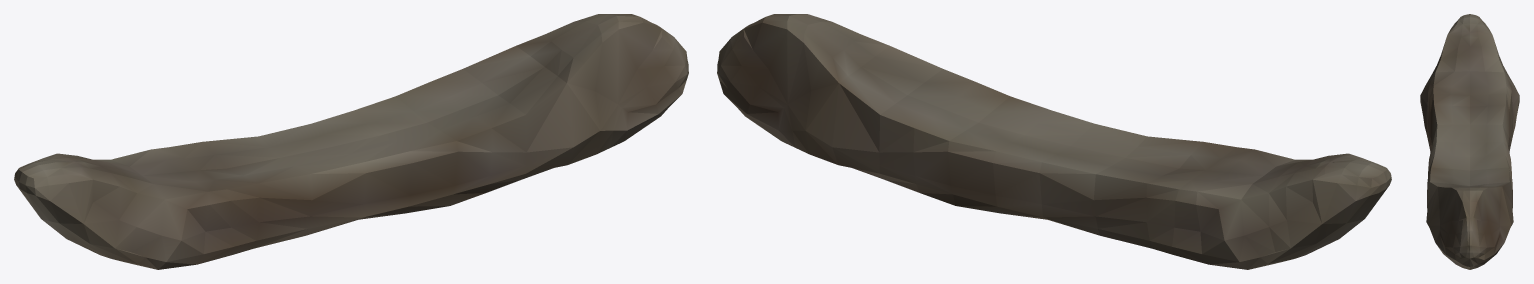
Rendered from whetstone_5c7ebf91.glb.
3 views of the same model, side by side, from view 1: azimuth 30°, elevation 25°; view 2: azimuth 150°, elevation 25°; view 3: azimuth 270°, elevation 25° (orthographic). The views are drawn at different scales.
Parts seen in each view (by area): view 1: SM_Whetstone_M_Whetstone_0; view 2: SM_Whetstone_M_Whetstone_0; view 3: SM_Whetstone_M_Whetstone_0.
Part boxes in pixels (bbox=[...]): SM_Whetstone_M_Whetstone_0: bbox=[14, 14, 688, 269]; SM_Whetstone_M_Whetstone_0: bbox=[717, 14, 1391, 269]; SM_Whetstone_M_Whetstone_0: bbox=[1420, 14, 1519, 269].
Size of the model in its own units: 0.2432 by 0.0423 by 0.0494.
